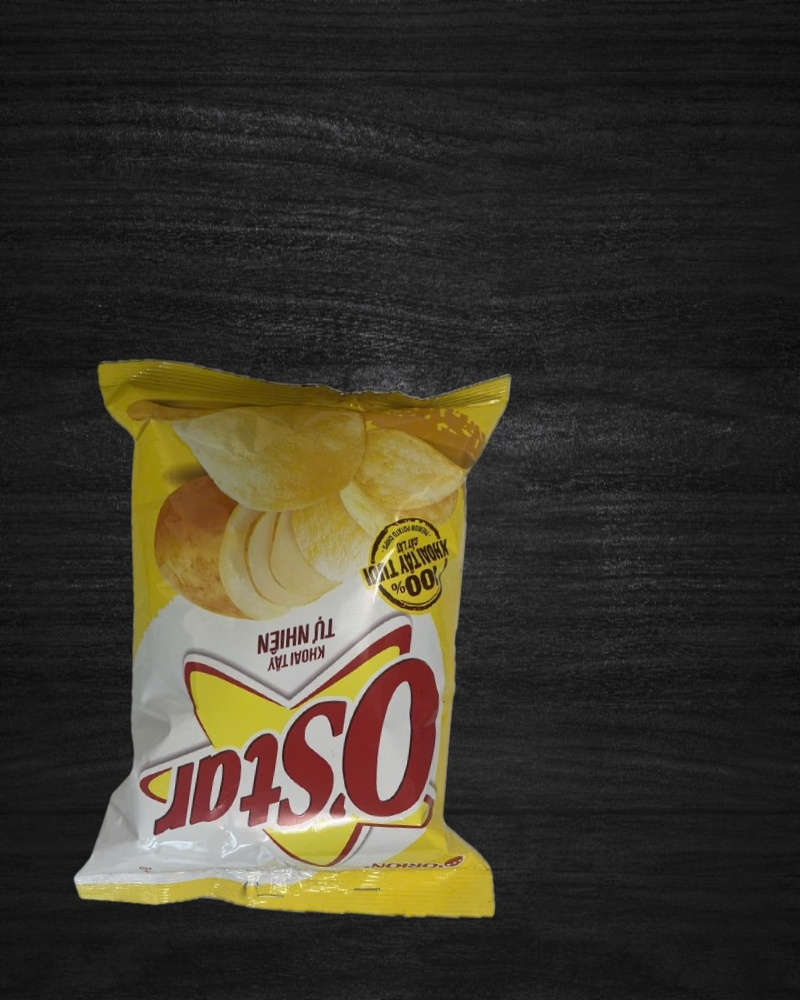Snack cua: (57, 345, 540, 929)
